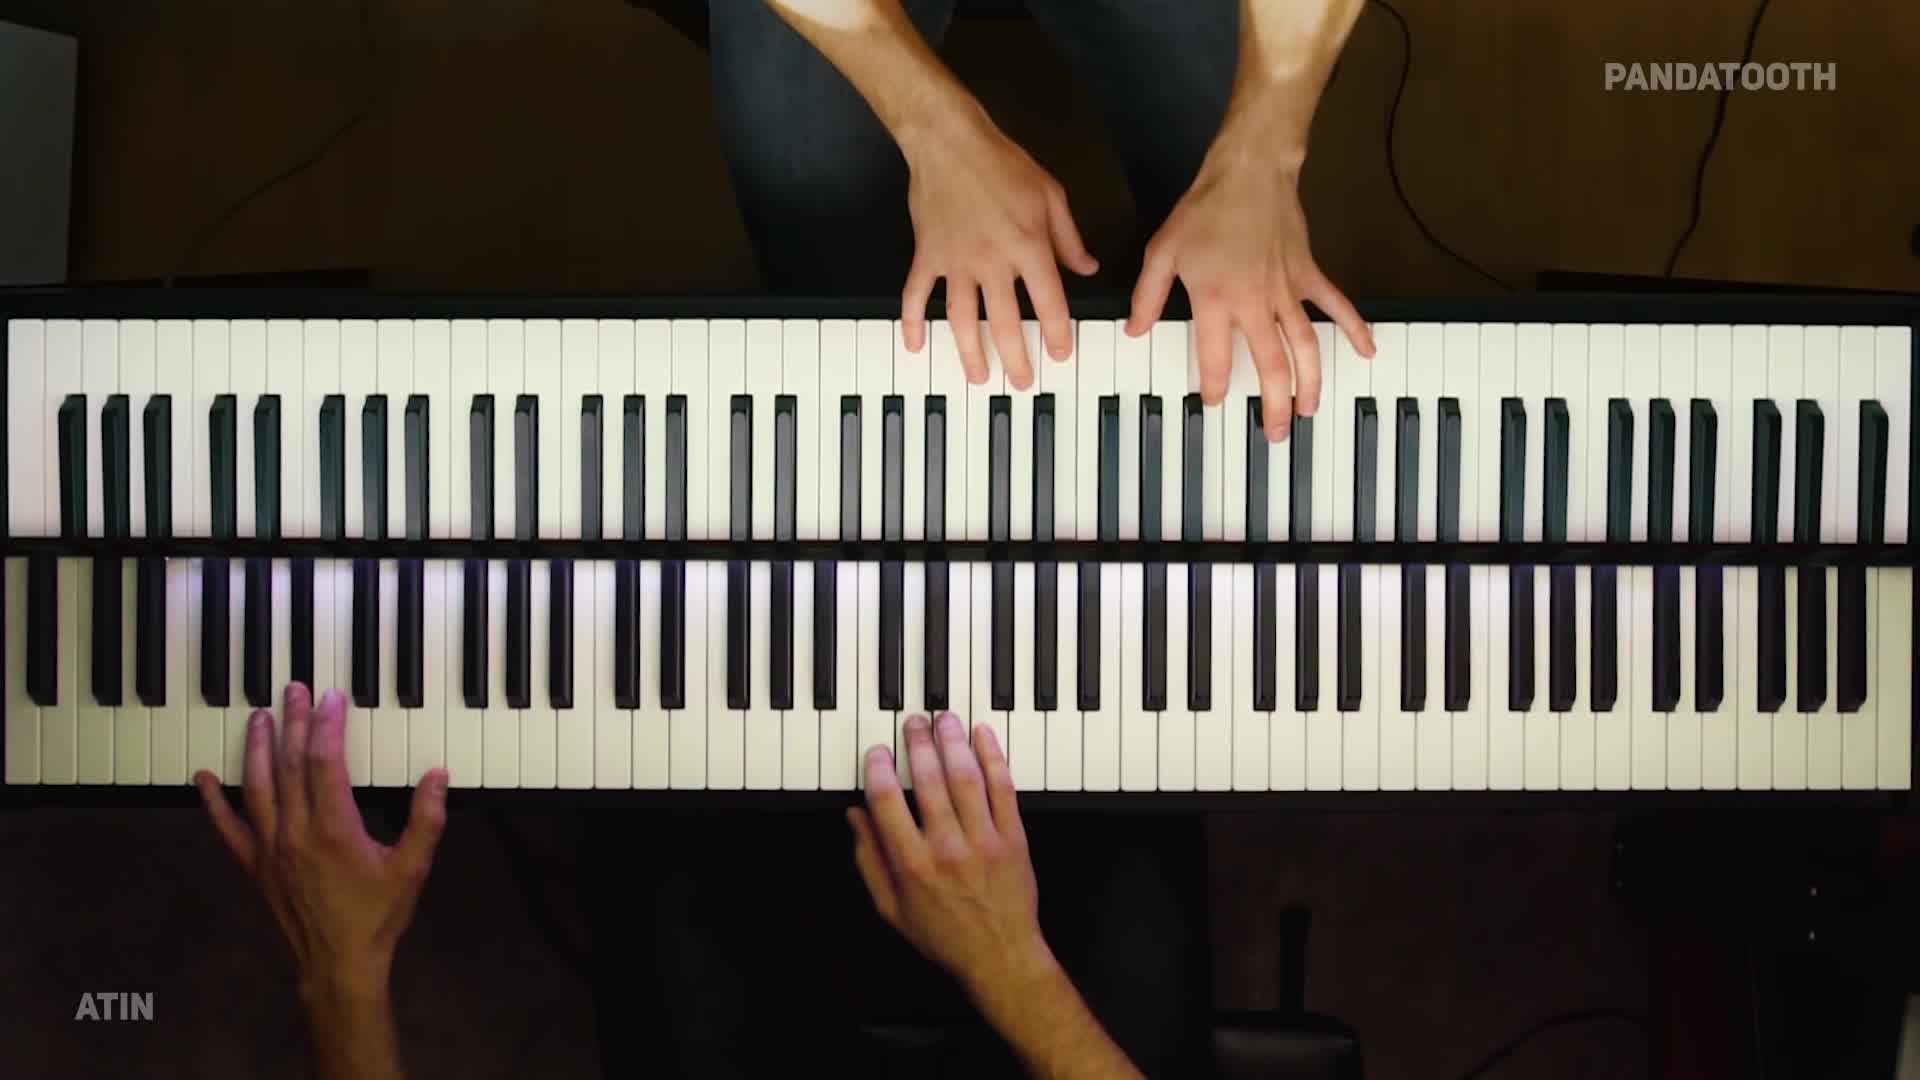left: (198, 682, 456, 975), (1125, 160, 1379, 443)
right: (847, 705, 1040, 963), (899, 145, 1101, 384)
